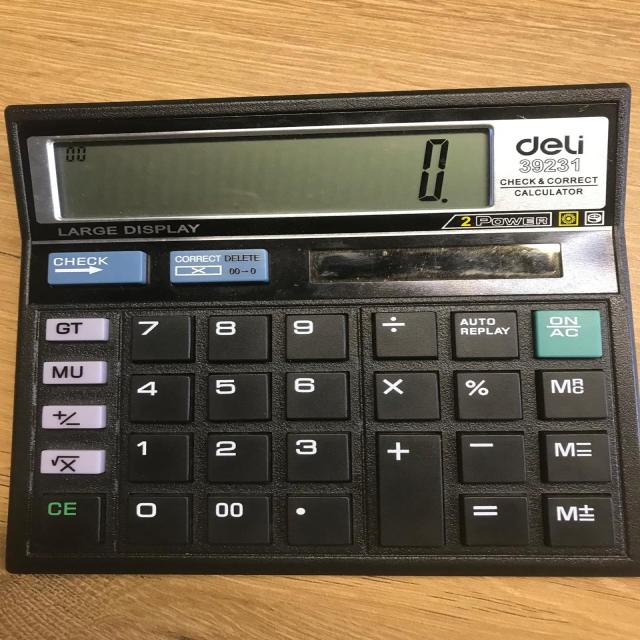calculator: (3, 81, 637, 577)
